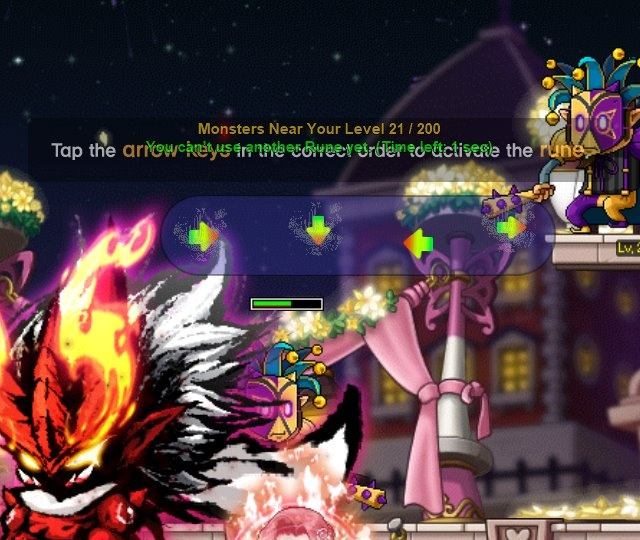rune_box: (151, 188, 569, 284)
